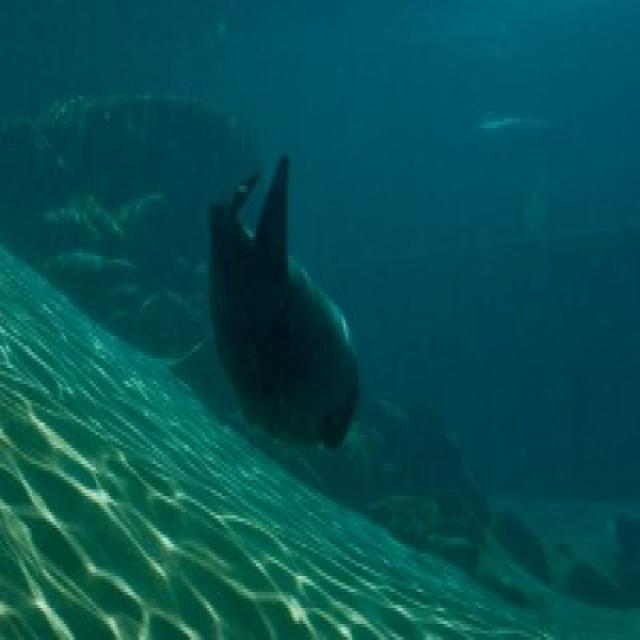Seal: (190, 118, 367, 465)
